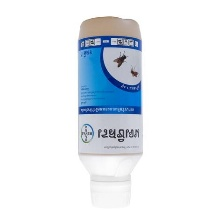insecticide: (75, 14, 146, 212)
